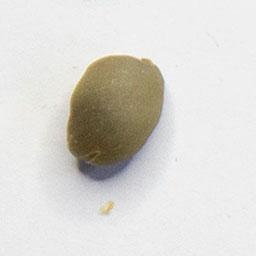peaberry: (62, 50, 169, 170)
